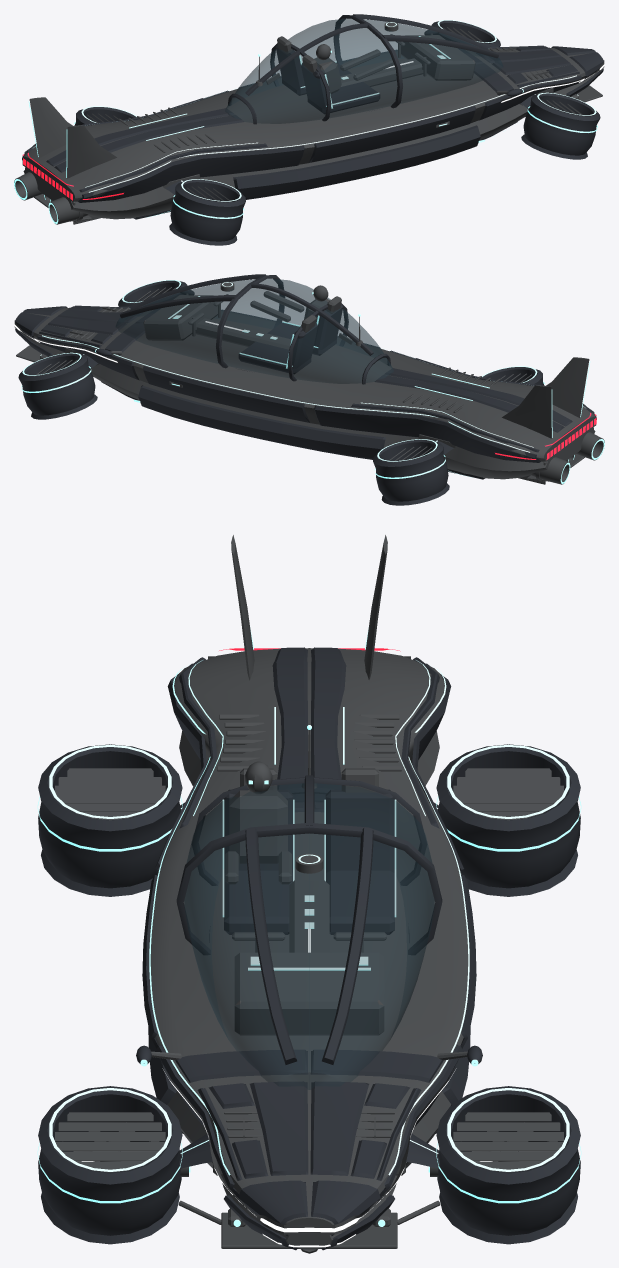
The model's file is hover215.glb.
3 views of the same model, one above another, from view 1: azimuth 30°, elevation 25°; view 2: azimuth 150°, elevation 25°; view 3: azimuth 270°, elevation 25° (orthographic). The views are drawn at different scales.
Visible parts, largest first — view 1: h215-body, h215-chassis, h215-glass, h215-trim, h215-accent, h215-tail; view 2: h215-body, h215-chassis, h215-glass, h215-trim, h215-accent, h215-tail; view 3: h215-body, h215-chassis, h215-glass, h215-trim, h215-accent, h215-head.
Boxes of the visible parts, bbox=[...] form: h215-body: bbox=[24, 14, 604, 245]; h215-chassis: bbox=[22, 47, 598, 219]; h215-glass: bbox=[225, 18, 503, 123]; h215-trim: bbox=[14, 21, 604, 224]; h215-accent: bbox=[14, 20, 597, 224]; h215-tail: bbox=[22, 152, 123, 200]; h215-body: bbox=[15, 274, 594, 505]; h215-chassis: bbox=[21, 307, 596, 479]; h215-glass: bbox=[115, 278, 393, 383]; h215-trim: bbox=[14, 281, 604, 484]; h215-accent: bbox=[21, 280, 604, 484]; h215-tail: bbox=[495, 412, 596, 459]; h215-body: bbox=[38, 647, 580, 1250]; h215-chassis: bbox=[150, 648, 468, 1249]; h215-glass: bbox=[184, 783, 434, 1089]; h215-trim: bbox=[55, 535, 563, 1253]; h215-accent: bbox=[37, 629, 581, 1226]; h215-head: bbox=[162, 928, 456, 1247].
Bounding box in the file's own units: 4.86 × 1.09 × 2.03.
